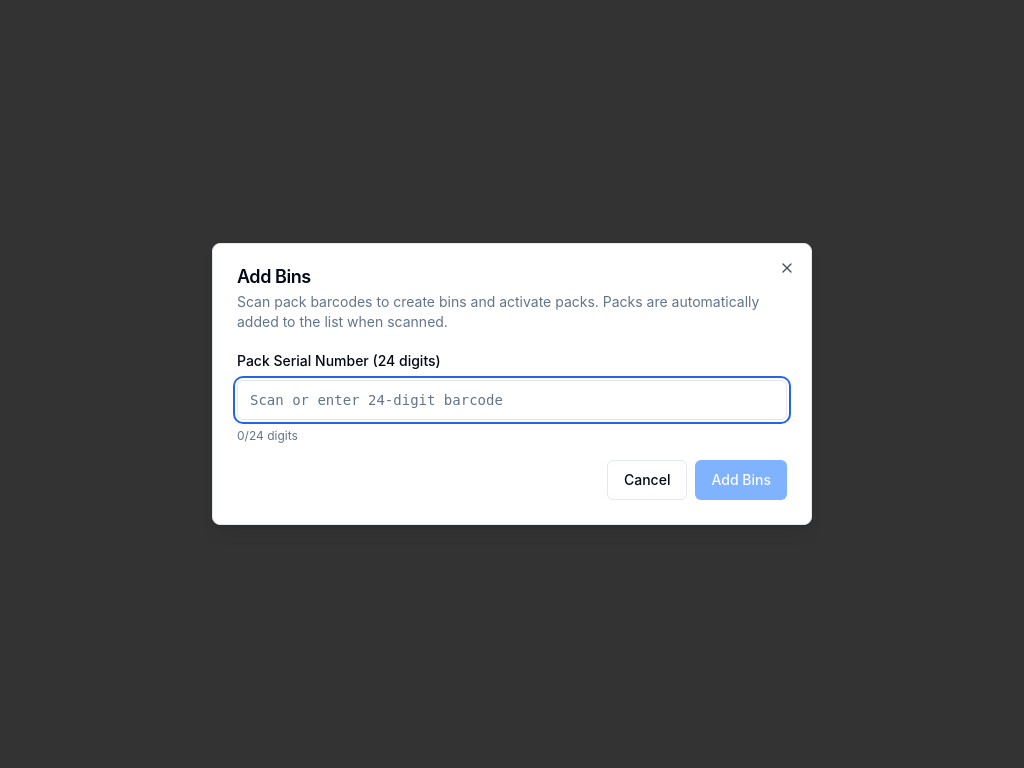
Test: AddBinModal (Client Dashboard) - Auto-Add Flow › Serial Input and Auto-Focus › should truncate serial input at 24 characters
In the field with test id "pack-serial-input": [512, 400] box left=237, top=380, right=787, bottom=420, type "123456789012345678901234567890"
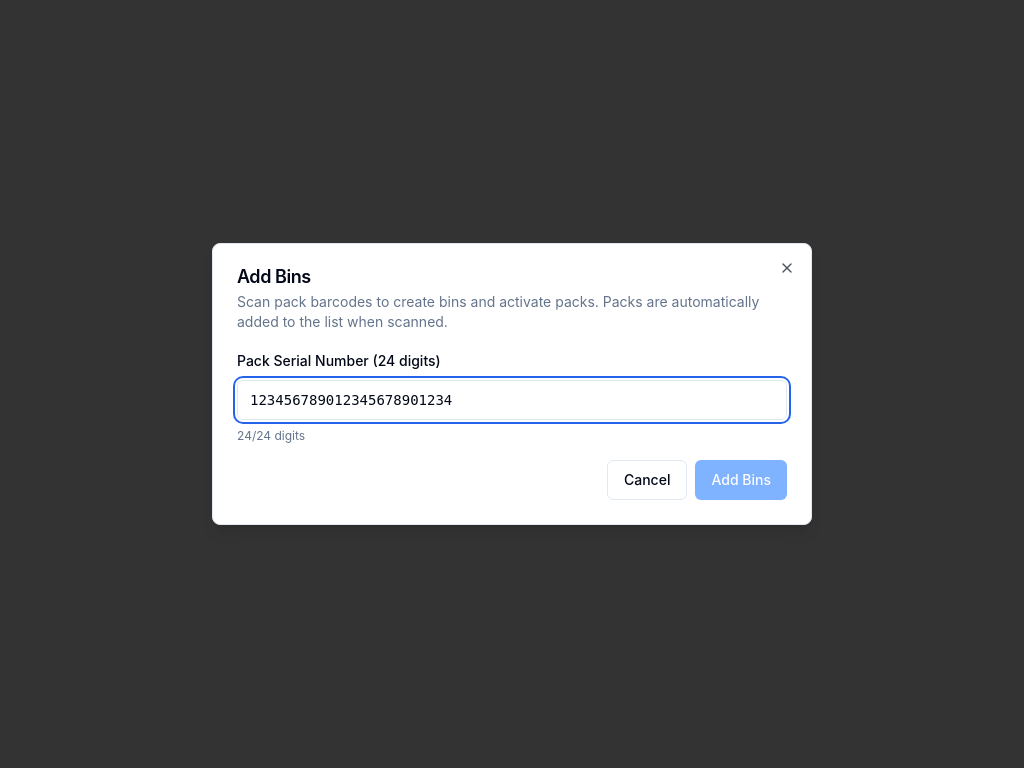
Check: the field with test id "pack-serial-input" holds "123456789012345678901234", box left=237, top=380, right=787, bottom=420
